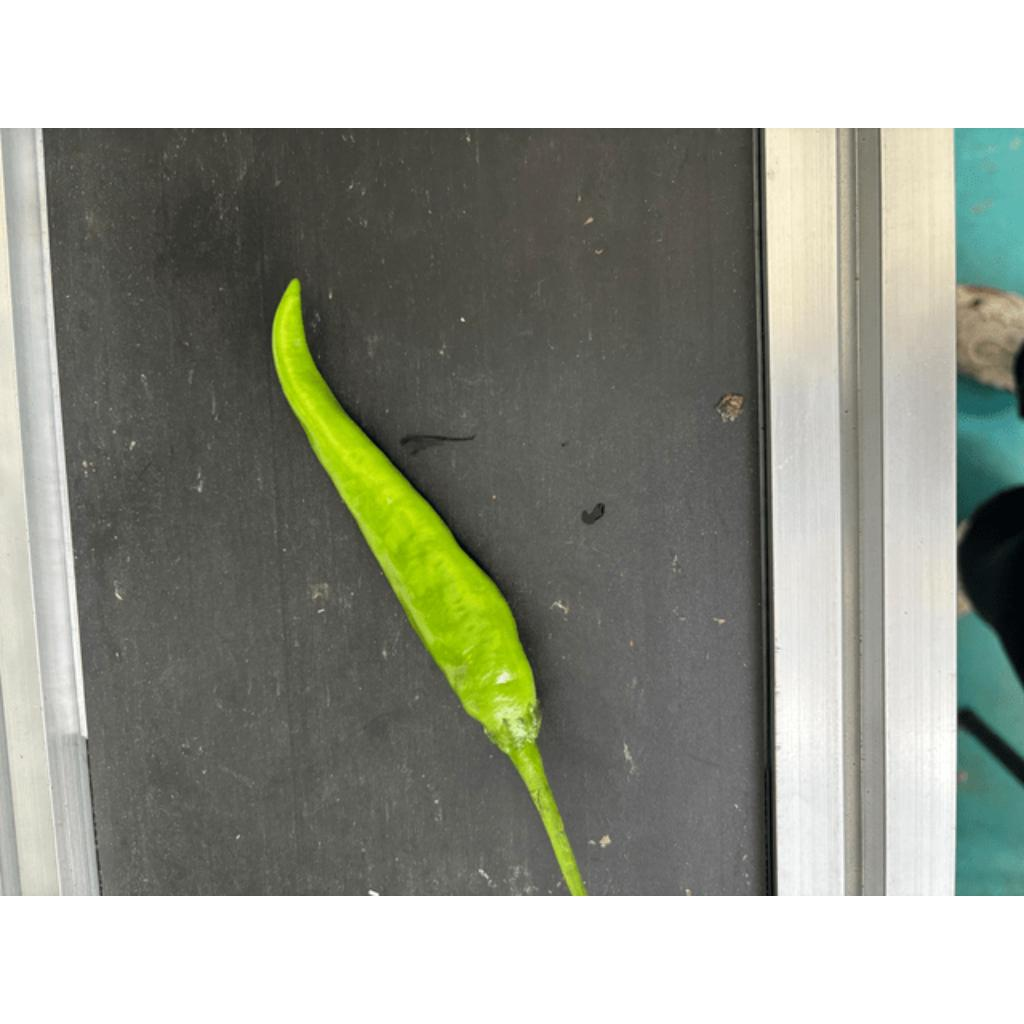chili: (265, 275, 543, 760)
